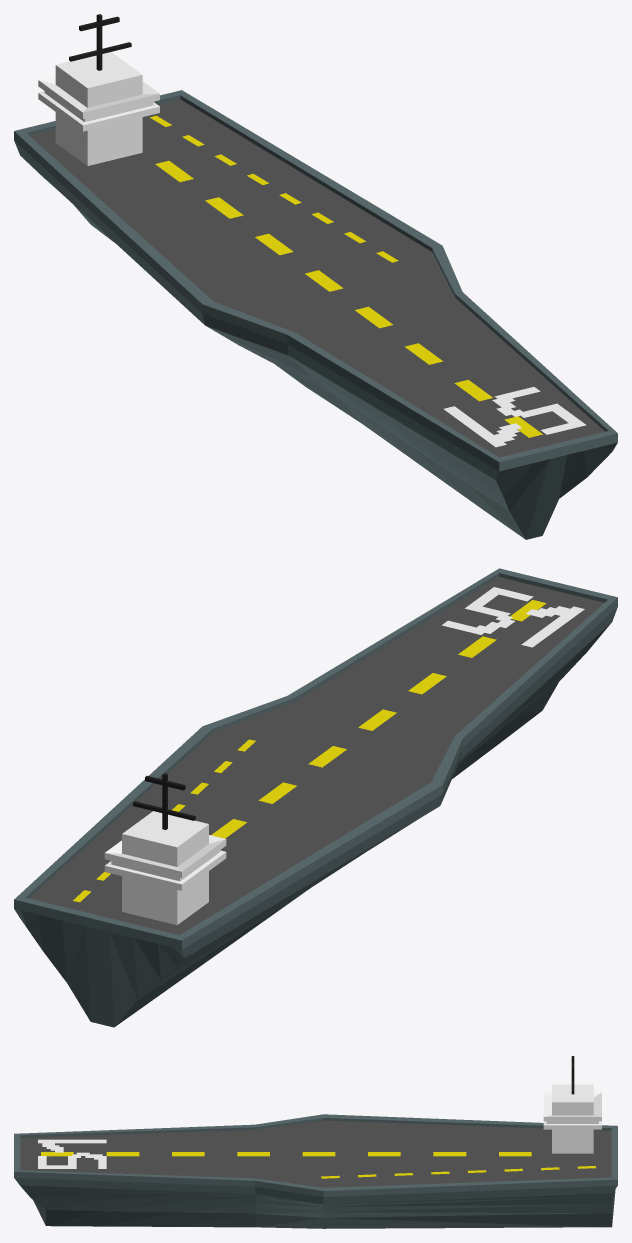
The model's file is Carrier.glb.
3 renders of one model, top to bottom at view 1: azimuth 30°, elevation 25°; view 2: azimuth 150°, elevation 25°; view 3: azimuth 270°, elevation 25°, orthographic. The views are drawn at different scales.
Visible parts, largest first — view 1: deck number; view 2: deck number; view 3: deck number.
Part boxes in pixels (<box>): deck number: <box>14,14,617,539</box>; deck number: <box>14,568,617,1027</box>; deck number: <box>14,1056,617,1228</box>.
Bounding box in the file's own units: 1.2 × 1.13 × 3.98.
